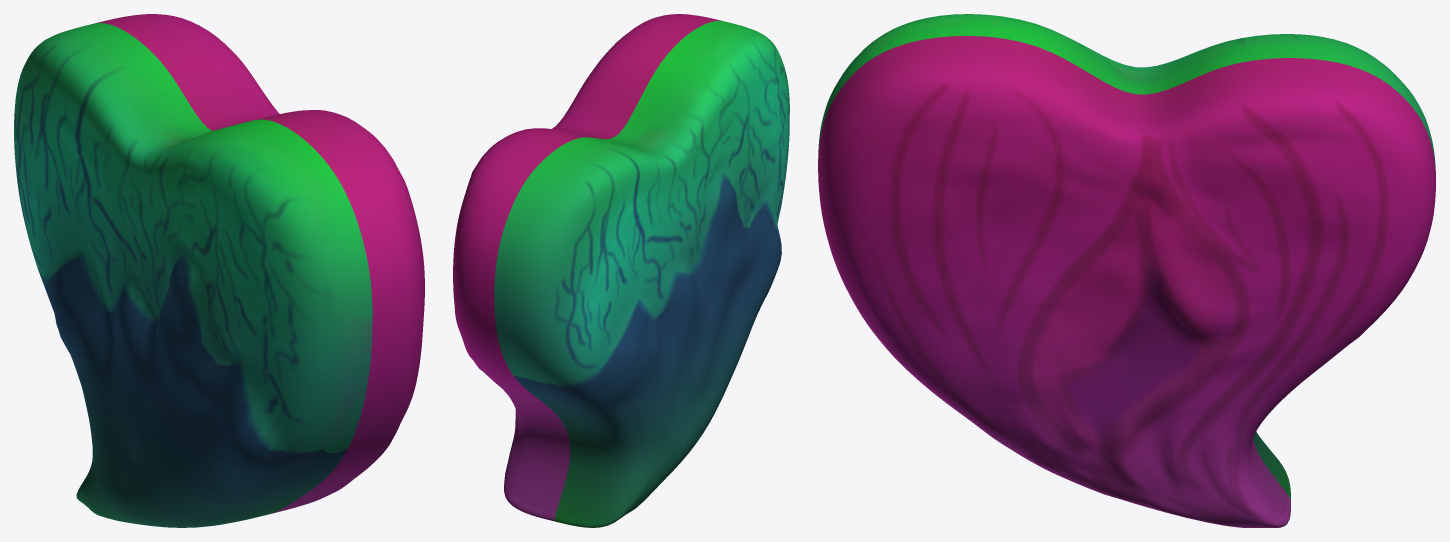
Rendered from heart_done1.fbx.
The picture shows the model from 3 angles, left to right: view 1: azimuth 30°, elevation 25°; view 2: azimuth 150°, elevation 25°; view 3: azimuth 270°, elevation 25°; orthographic projection. The views are drawn at different scales.
Parts seen in each view (by area): view 1: pCube1; view 2: pCube1; view 3: pCube1.
Boxes of the visible parts, x1=… form: pCube1: x1=14, y1=14, x2=424, y2=527; pCube1: x1=453, y1=14, x2=789, y2=527; pCube1: x1=818, y1=14, x2=1435, y2=527.
Size of the model in its own units: 1.62 by 3.82 by 4.57.
